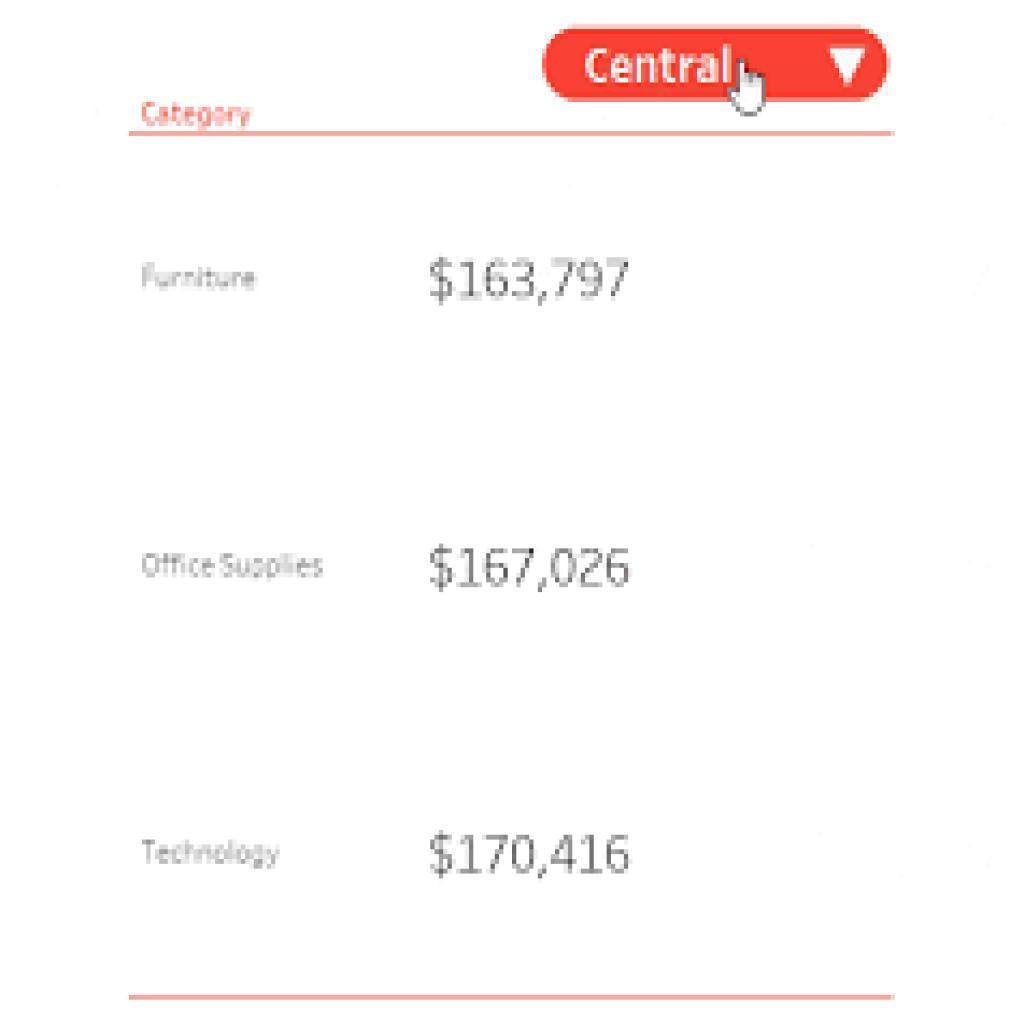dropdown: (544, 25, 888, 100)
